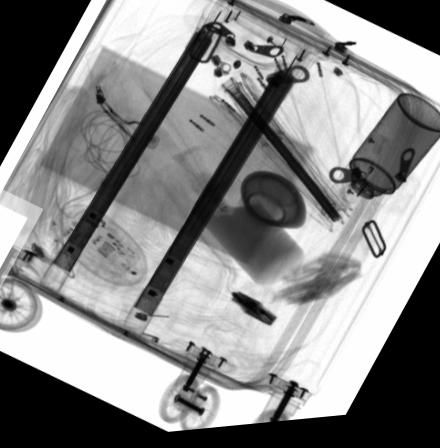Sprayer: (332, 99, 440, 220)
